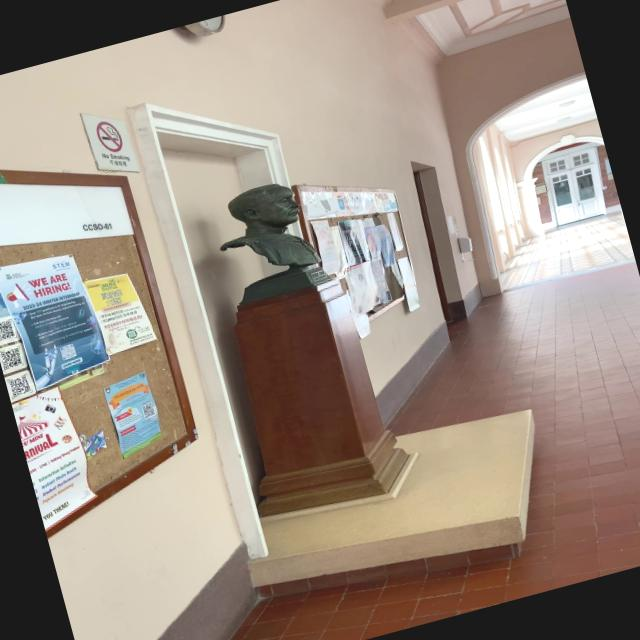statues: (196, 168, 353, 316)
